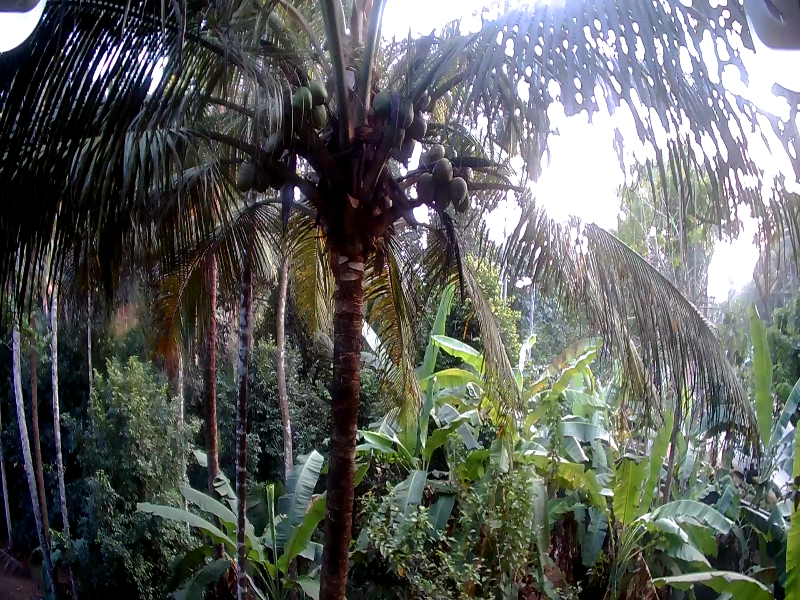coconut: (264, 133, 287, 161), (370, 94, 392, 121), (305, 102, 328, 127), (239, 160, 261, 186), (395, 95, 411, 129), (432, 161, 452, 185), (416, 172, 433, 198), (412, 107, 426, 135), (426, 141, 441, 165), (295, 87, 311, 109), (311, 81, 328, 101), (416, 86, 430, 108), (418, 153, 435, 171), (454, 180, 465, 201), (463, 165, 475, 181)
